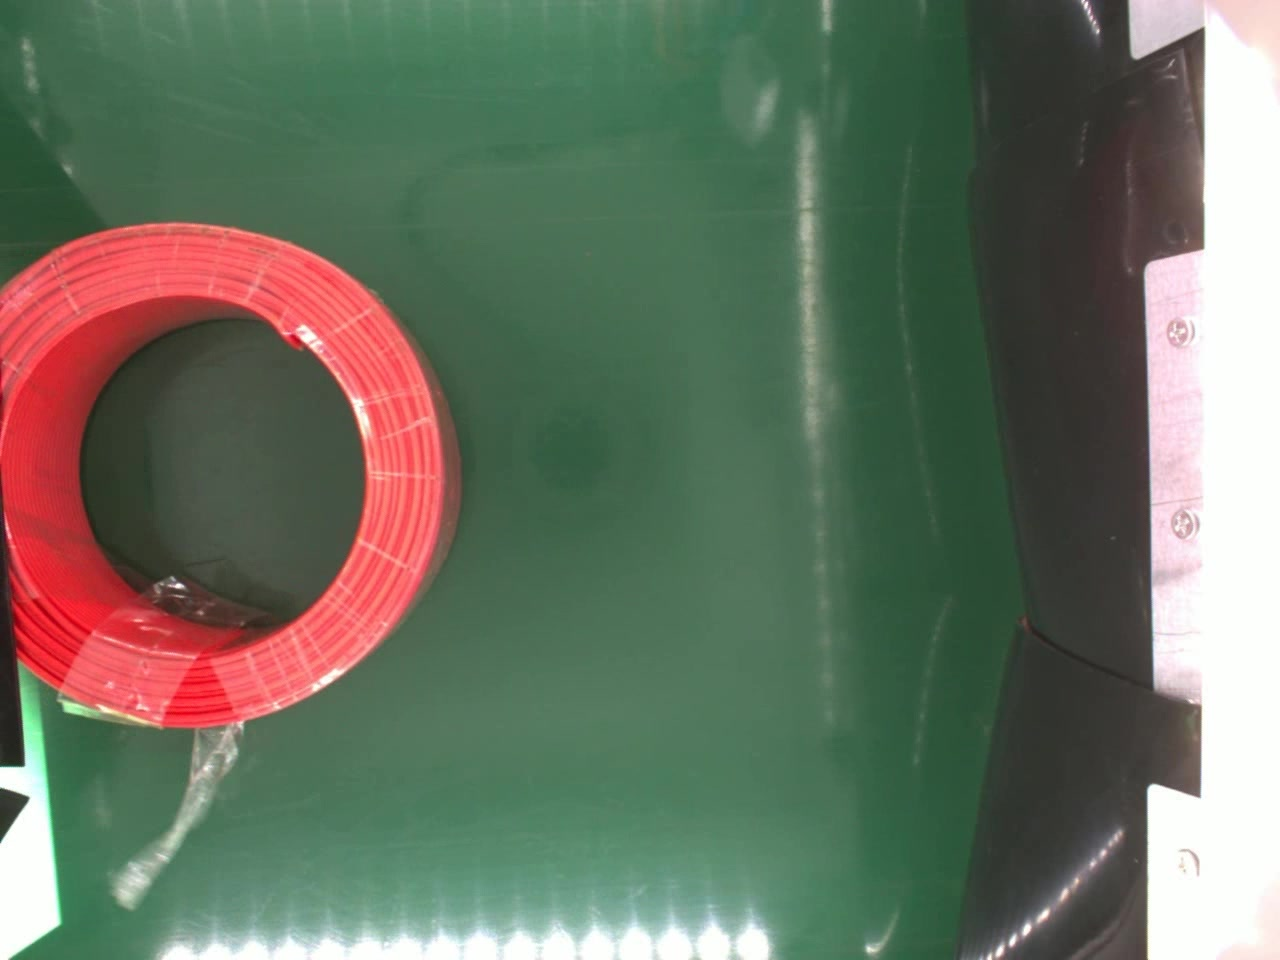red: (0, 215, 463, 732)
